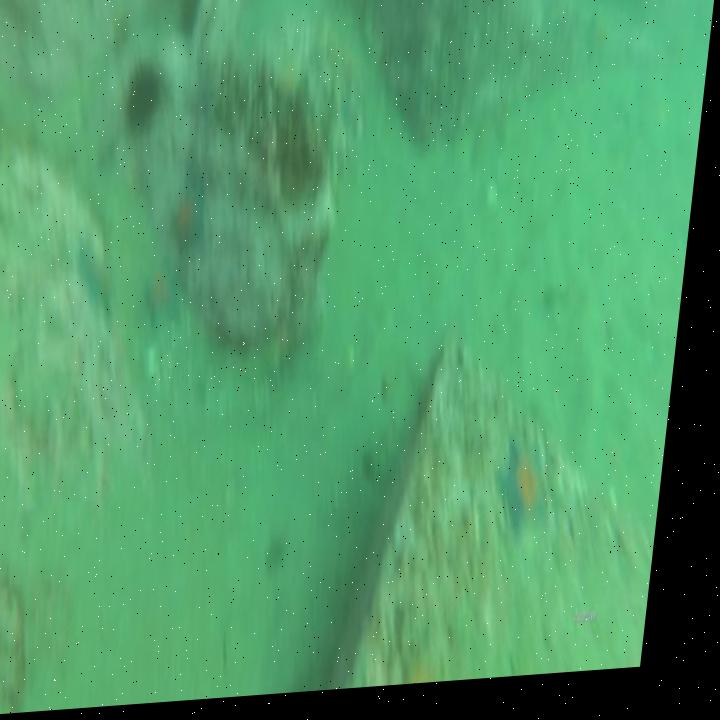echinus: (119, 59, 177, 142)
starfish: (509, 442, 568, 543), (79, 237, 127, 319), (146, 266, 195, 335), (173, 189, 215, 259)
